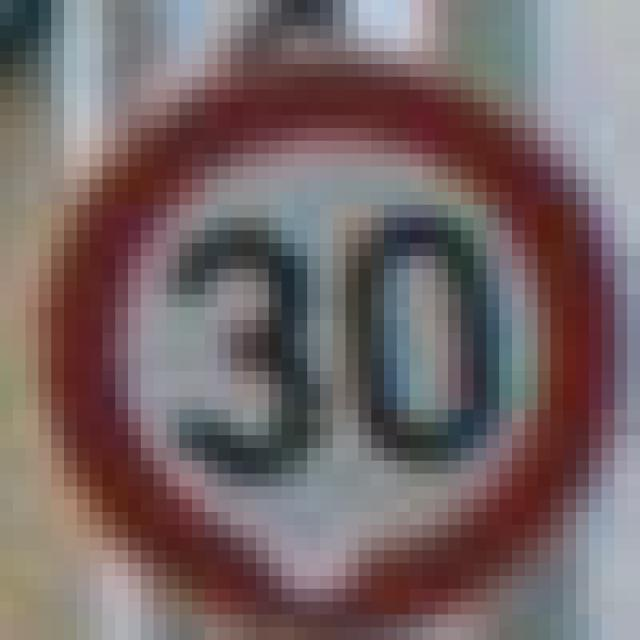SPEED_LIMIT_30: (26, 38, 602, 614)
